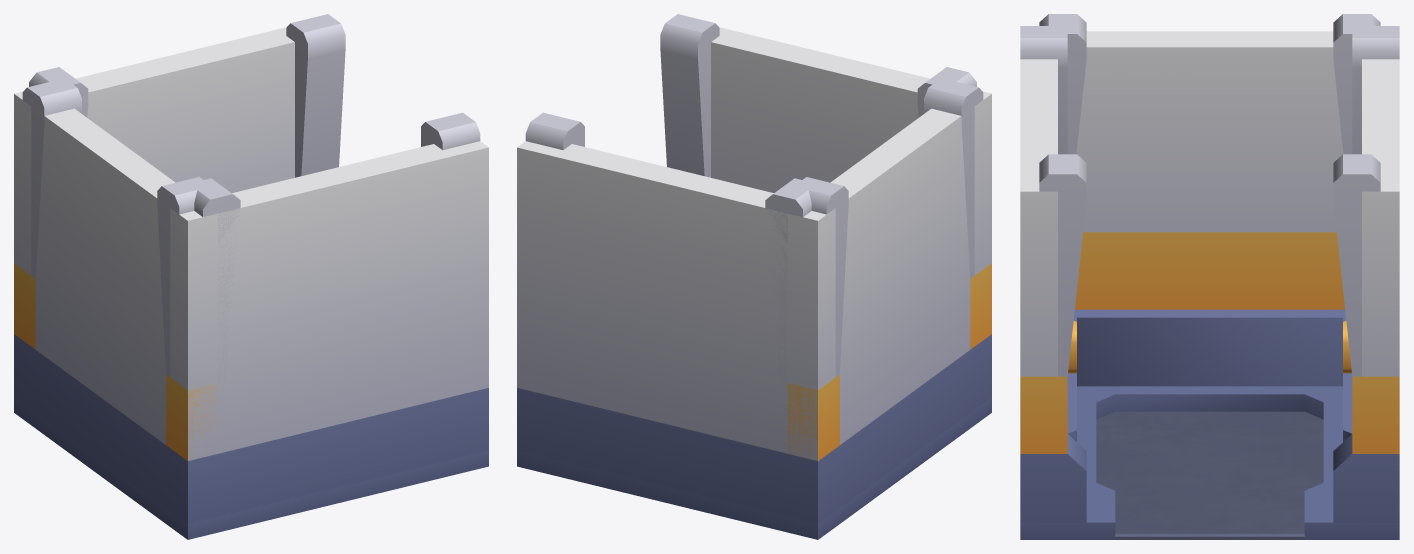
File: kenney-space-corridor-end.glb
3 renders of one model, left to right at view 1: azimuth 30°, elevation 25°; view 2: azimuth 150°, elevation 25°; view 3: azimuth 270°, elevation 25°, orthographic. The views are drawn at different scales.
Visible parts, largest first — view 1: corridor-end; view 2: corridor-end; view 3: corridor-end.
Boxes of the visible parts, left/top/right/bottom form: corridor-end: left=14, top=14, right=488, bottom=539; corridor-end: left=517, top=14, right=991, bottom=539; corridor-end: left=1020, top=14, right=1399, bottom=539.
Bounding box in the file's own units: 3 × 3.19 × 3.
Materials: 1 (1 with a texture image).
